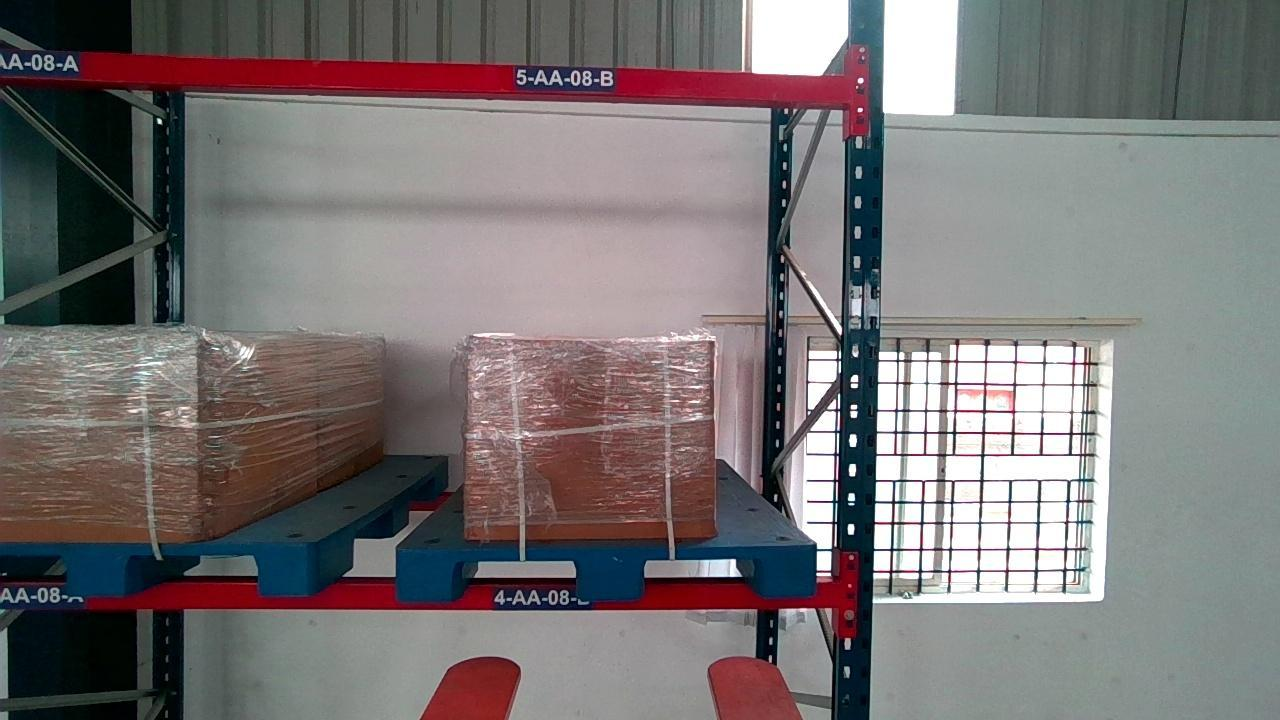h_rack: (1, 47, 856, 106), (0, 578, 839, 607)
small_pallet: (397, 545, 815, 601), (8, 541, 307, 595)
